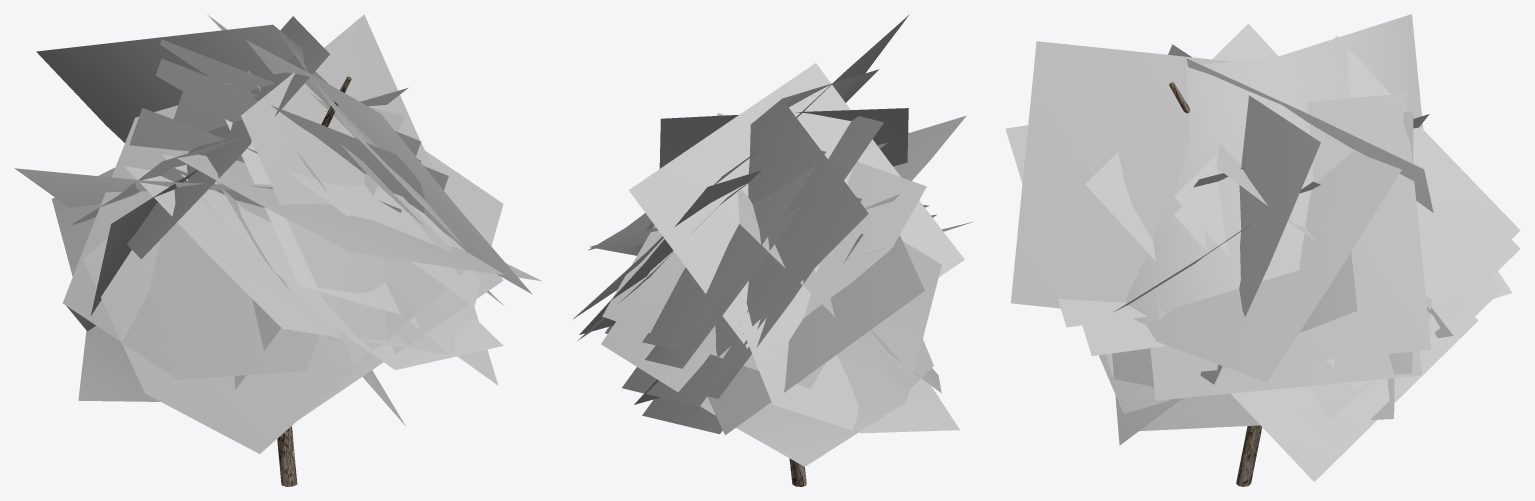
File: TreeExpo.fbx
3 views of the same model, side by side, from view 1: azimuth 30°, elevation 25°; view 2: azimuth 150°, elevation 25°; view 3: azimuth 270°, elevation 25° (orthographic). The views are drawn at different scales.
Parts seen in each view (by area): view 1: pPlane26, pPlane45, pPlane11, pPlane40, pPlane4, pPlane6, pPlane34, pPlane14, pPlane21, pPlane18, pPlane3, pPlane15 (+10 smaller); view 2: pPlane15, pPlane25, pPlane40, pPlane17, pPlane46, pPlane18, pPlane31, pPlane45, pPlane26, pPlane20, pPlane30, pPlane29 (+8 smaller); view 3: pPlane14, pPlane40, pPlane33, pPlane34, pPlane31, pPlane45, pPlane32, pPlane23, pPlane20, pPlane1, pPlane21, pPlane30 (+8 smaller).
Part boxes in pixels (<box>): pPlane26: <box>63,105,404,379</box>; pPlane45: <box>241,14,445,365</box>; pPlane11: <box>83,193,466,453</box>; pPlane40: <box>36,24,464,247</box>; pPlane4: <box>124,166,465,357</box>; pPlane6: <box>161,149,530,278</box>; pPlane34: <box>250,141,503,306</box>; pPlane14: <box>245,39,532,294</box>; pPlane21: <box>173,74,448,213</box>; pPlane18: <box>52,167,280,401</box>; pPlane3: <box>162,154,503,370</box>; pPlane15: <box>127,16,329,259</box>; pPlane15: <box>629,63,964,355</box>; pPlane25: <box>601,241,941,466</box>; pPlane40: <box>634,69,878,357</box>; pPlane17: <box>707,235,924,435</box>; pPlane46: <box>602,113,926,388</box>; pPlane18: <box>732,296,959,433</box>; pPlane31: <box>605,150,825,351</box>; pPlane45: <box>659,108,908,168</box>; pPlane26: <box>737,187,933,391</box>; pPlane20: <box>622,306,774,406</box>; pPlane30: <box>645,208,798,368</box>; pPlane29: <box>579,170,761,334</box>; pPlane14: <box>1011,41,1229,308</box>; pPlane40: <box>1126,14,1423,324</box>; pPlane33: <box>1153,93,1430,374</box>; pPlane34: <box>1146,151,1401,382</box>; pPlane31: <box>1174,36,1520,391</box>; pPlane45: <box>1168,44,1320,384</box>; pPlane32: <box>1150,346,1422,400</box>; pPlane23: <box>1231,317,1478,481</box>; pPlane20: <box>1280,277,1502,450</box>; pPlane1: <box>1112,252,1357,445</box>; pPlane21: <box>1085,23,1278,260</box>; pPlane30: <box>1174,206,1520,419</box>.
Size of the model in its own units: 48.11 by 47.92 by 51.49.
